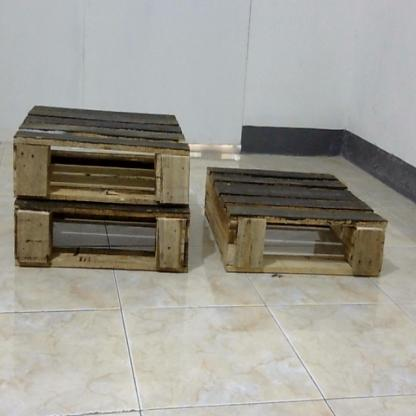Wooden-Pallet: (203, 166, 386, 276), (12, 103, 192, 210), (15, 207, 190, 271)
